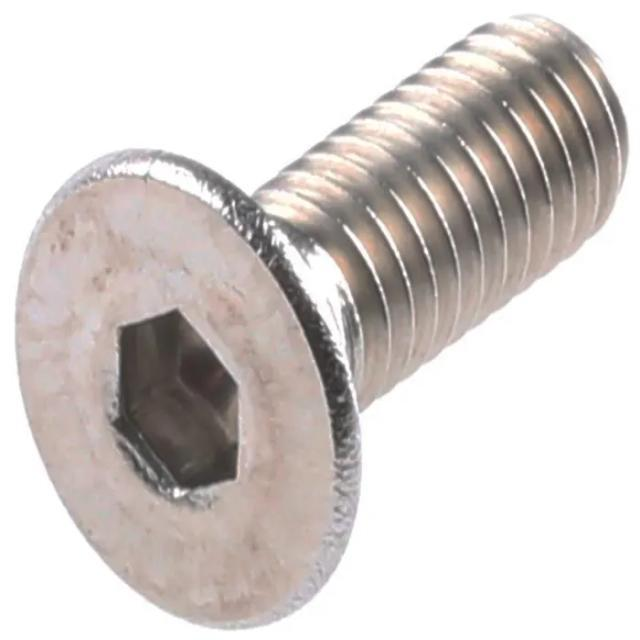allen: (12, 147, 364, 635)
